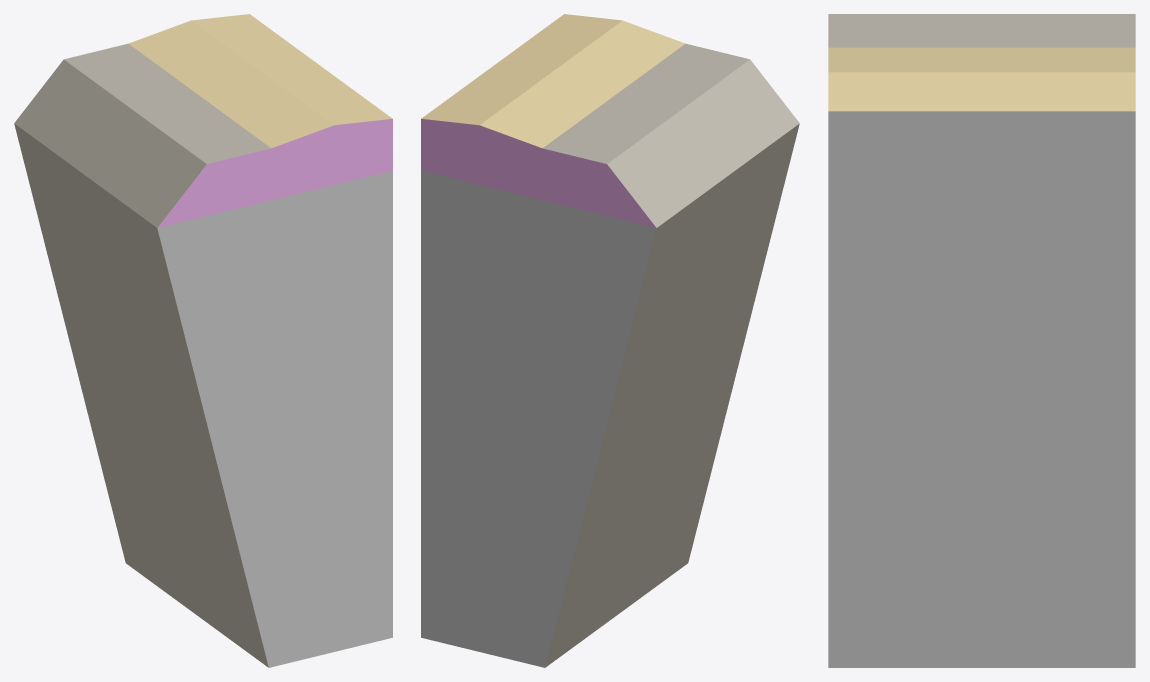
File: Path_End_Center_Top_1x1.glb
3 views of the same model, side by side, from view 1: azimuth 30°, elevation 25°; view 2: azimuth 150°, elevation 25°; view 3: azimuth 270°, elevation 25° (orthographic). The views are drawn at different scales.
Visible parts, largest first — view 1: Path_End_Center_Top_1x1; view 2: Path_End_Center_Top_1x1; view 3: Path_End_Center_Top_1x1.
Part boxes in pixels (x1,y1,x2,y2): Path_End_Center_Top_1x1: [14, 14, 392, 667]; Path_End_Center_Top_1x1: [421, 14, 799, 667]; Path_End_Center_Top_1x1: [828, 14, 1135, 667].
Size of the model in its own units: 95 by 203 by 100.
